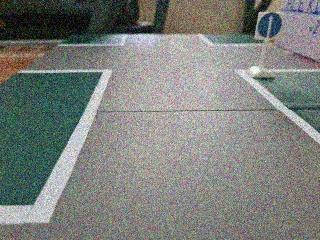straight: (255, 5, 288, 46)
